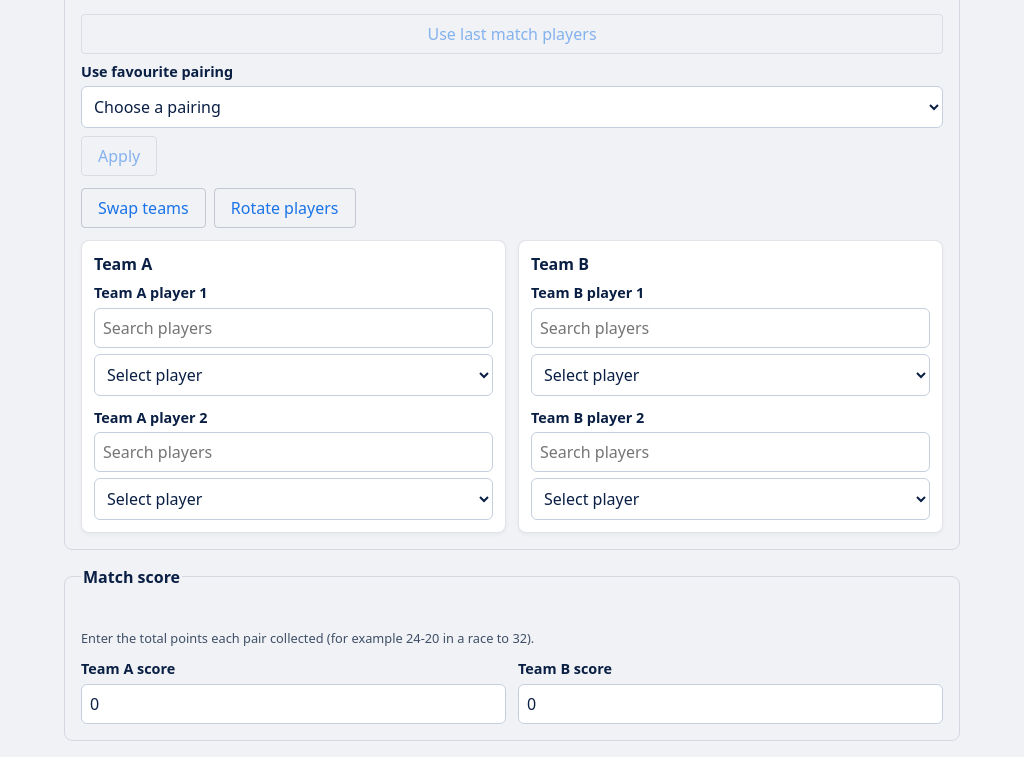
Test case: RecordSportForm › shows an error when padel Americano totals do not match the tie target
(page scrolled)
Select "Alice" in the dropdown labelled "Team A player 1". click: (294, 374)
box: [94, 354, 493, 396]
Select "Bob" in the dropdown labelled "Team A player 2". click: (294, 499)
box: [94, 478, 493, 520]
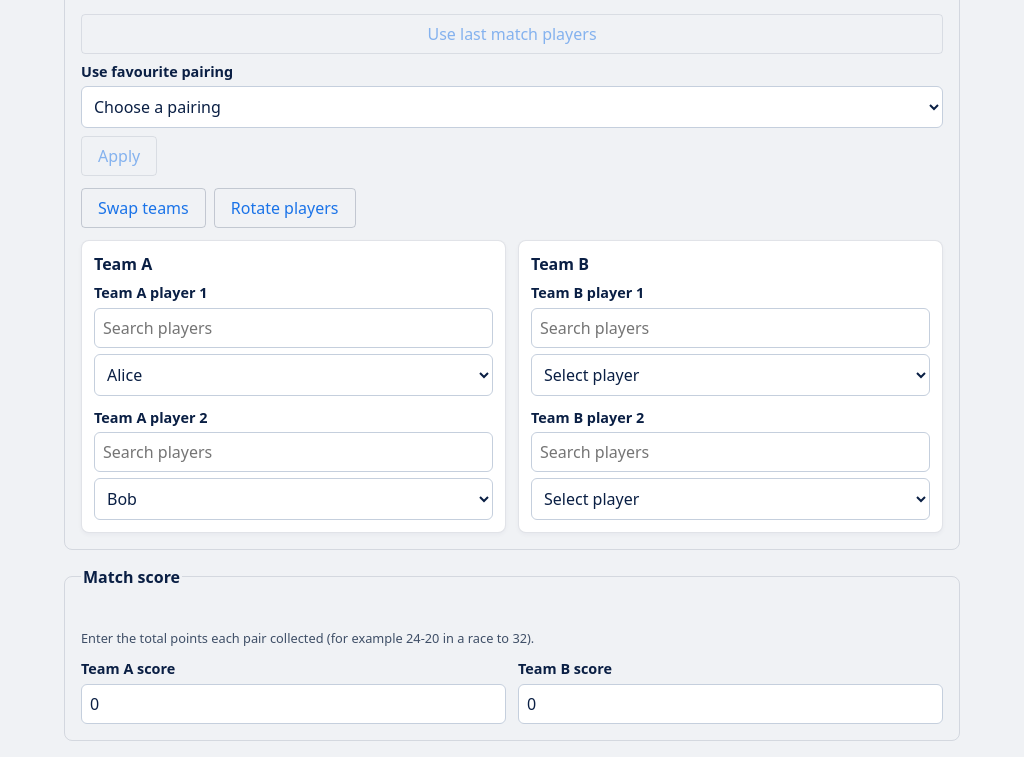
Select "Cara" in the dropdown labelled "Team B player 1". click: (730, 374)
box: [531, 354, 930, 396]
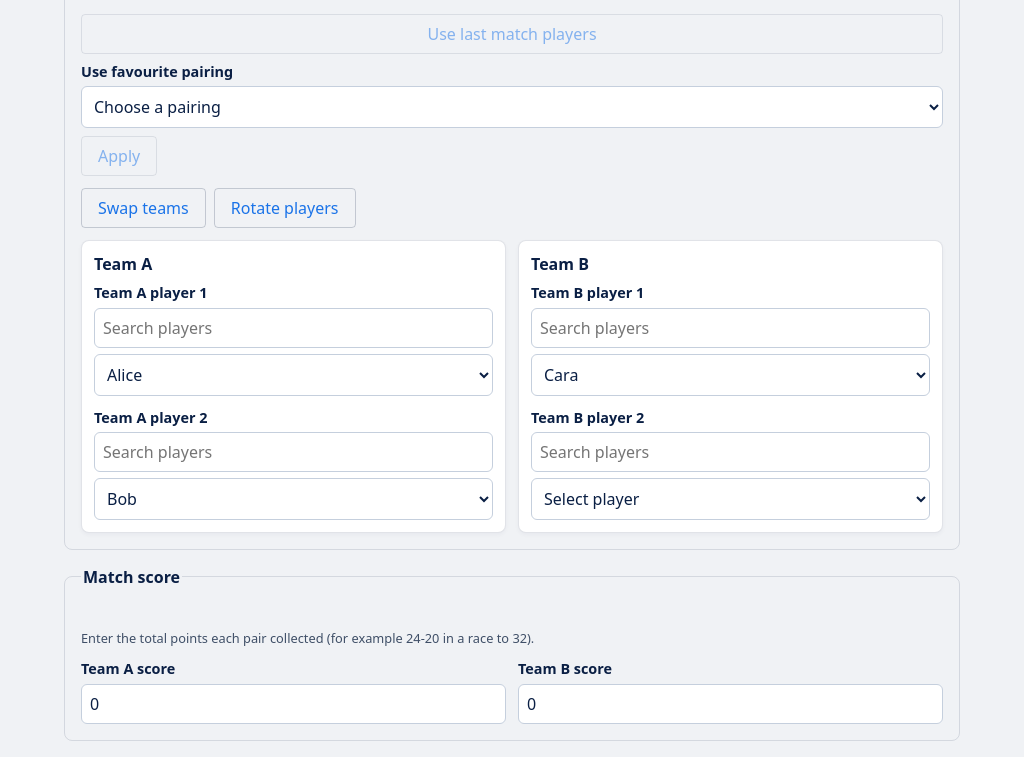
Select "Dan" in the dropdown labelled "Team B player 2". click: (730, 499)
box: [531, 478, 930, 520]
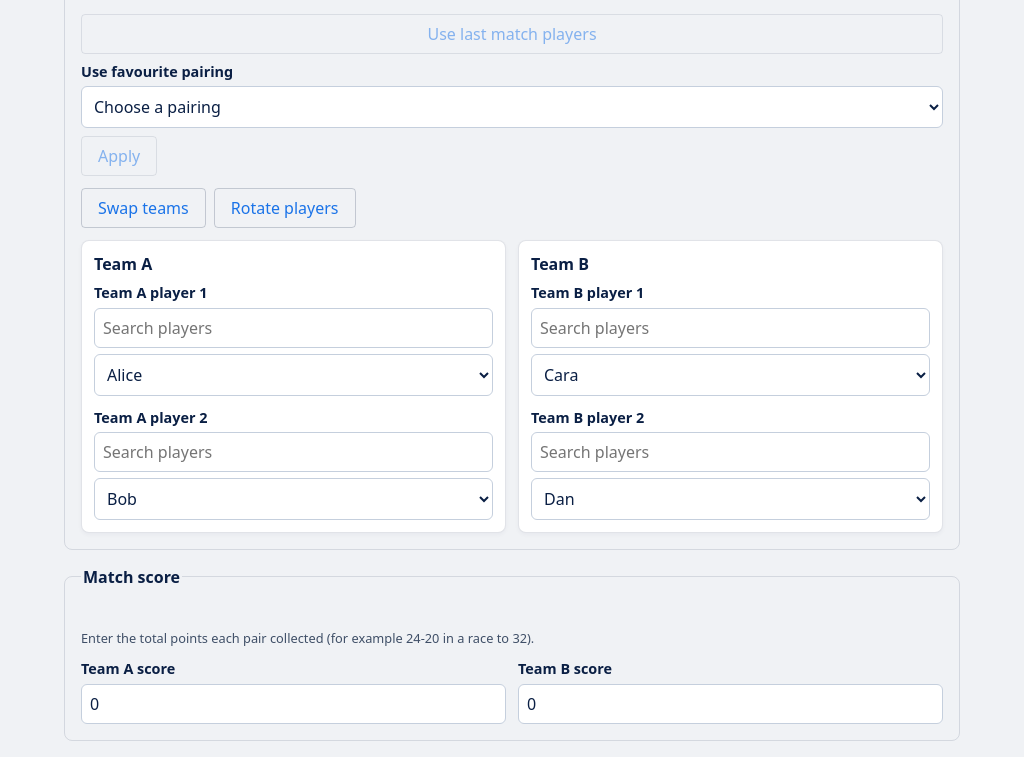
Replace the text in the number field labelled "Team A score" with "10". click: (294, 704)
box: [81, 684, 506, 724]
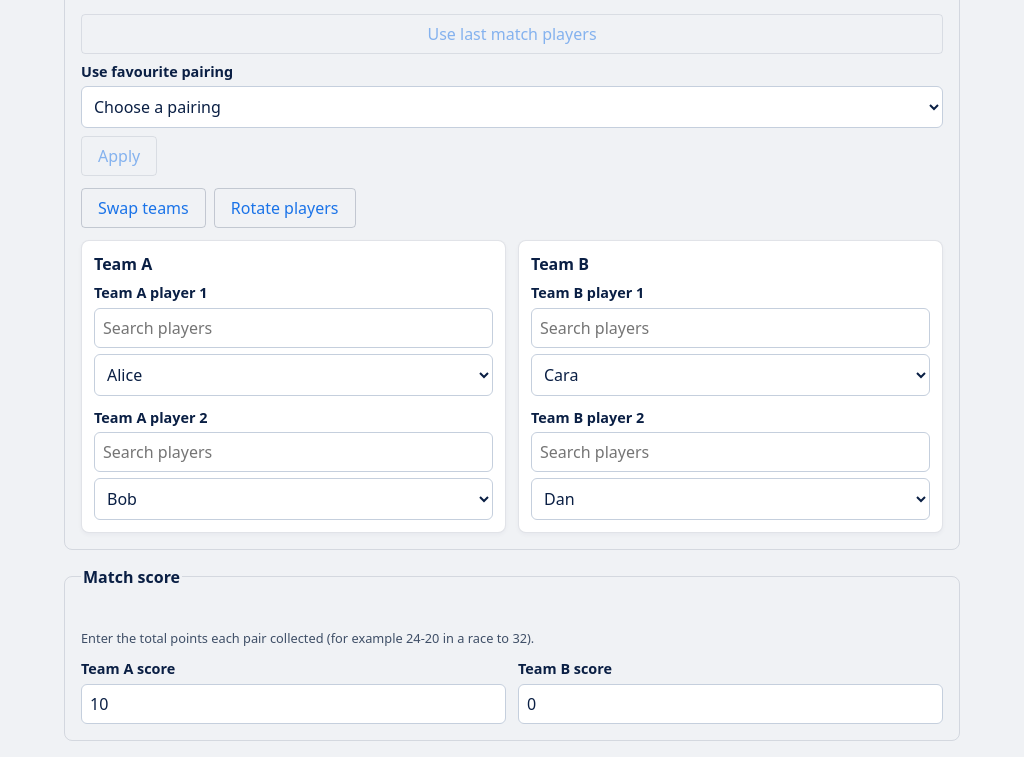
Replace the text in the number field labelled "Team B score" with "4". click: (730, 704)
box: [518, 684, 943, 724]
(page scrolled)
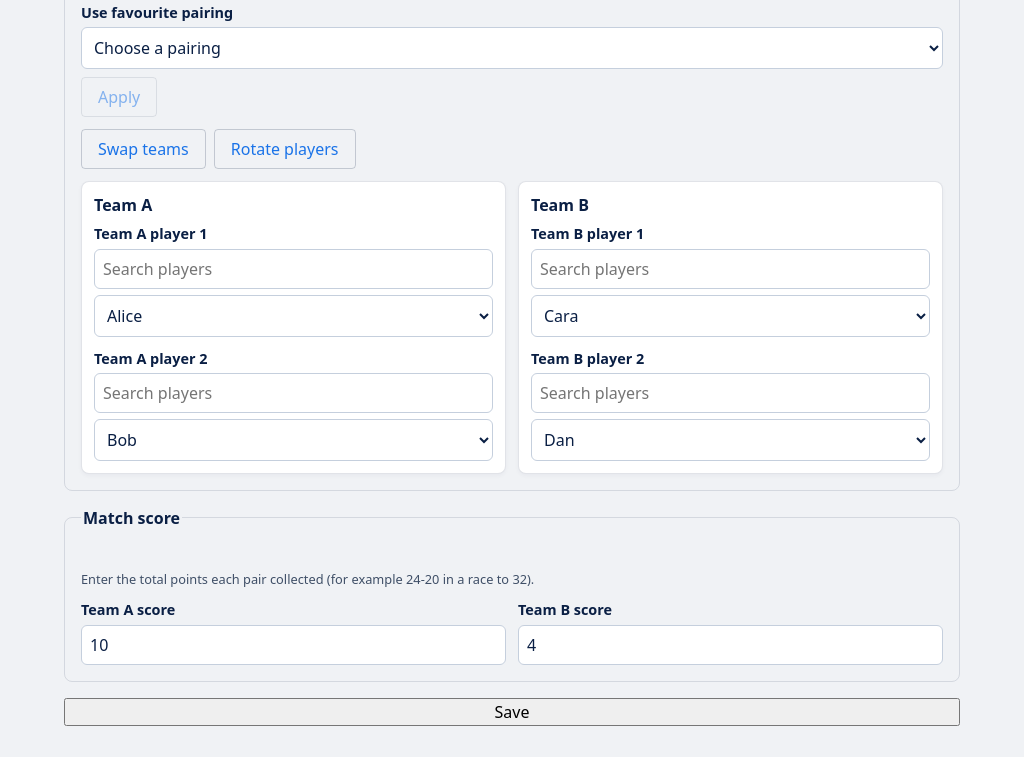
Click the button "Save". click: (512, 712)
box: [64, 698, 960, 726]
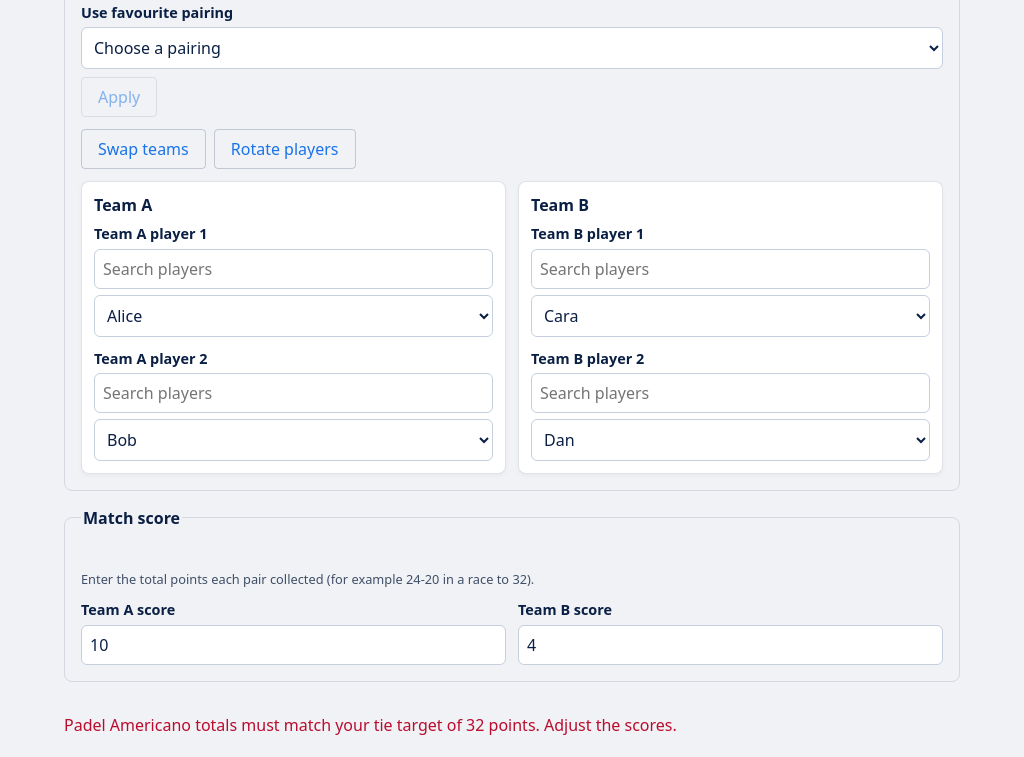
Result: the text "totals must match your tie target of 32 points" is shown at [64, 714, 677, 736]
